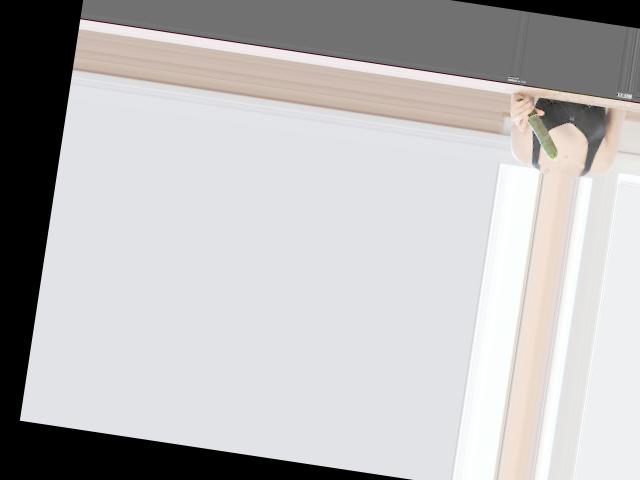cucumber: (508, 97, 564, 160)
